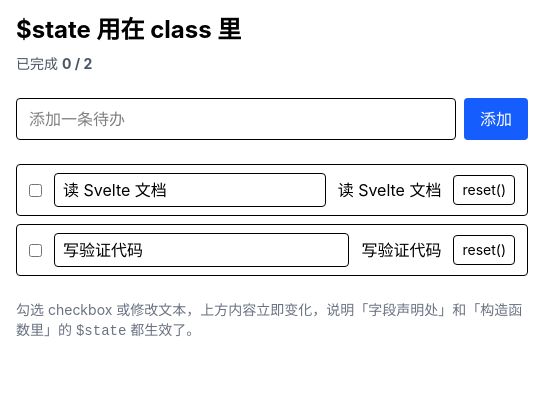
Test: /state-class 页面 › 新增待办后仍然具备响应式
Type "跑一遍测试" into the field with test id "draft-input". click: coordinates (236, 119)
box: [16, 98, 456, 140]
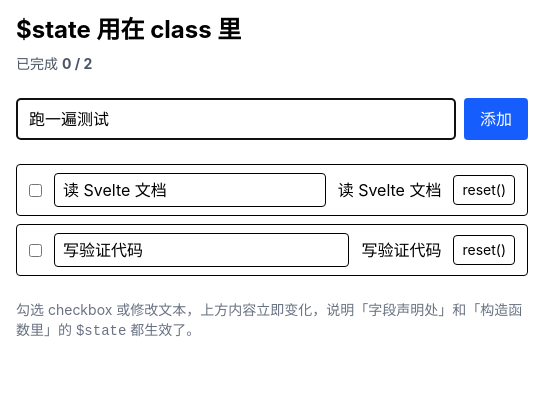
Click the button with test id "add". click: coordinates (496, 119)
box: [464, 98, 528, 140]
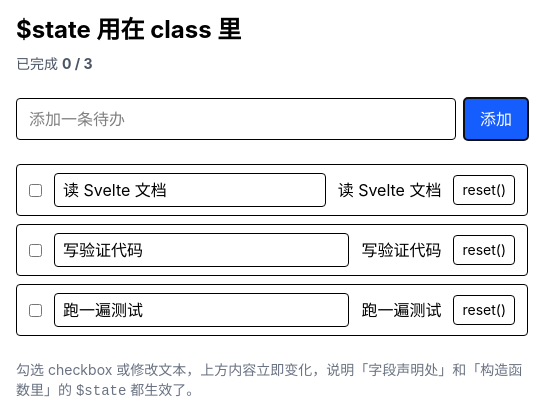
Expected: the text with test id "done-count" reads "0 / 3", [62, 55, 92, 72]
Expected: the text with test id "todo-text-2" reads "跑一遍测试", [361, 300, 441, 320]
Click the checkbox with test id "todo-done-2". click: coordinates (36, 310)
box: [29, 304, 42, 316]
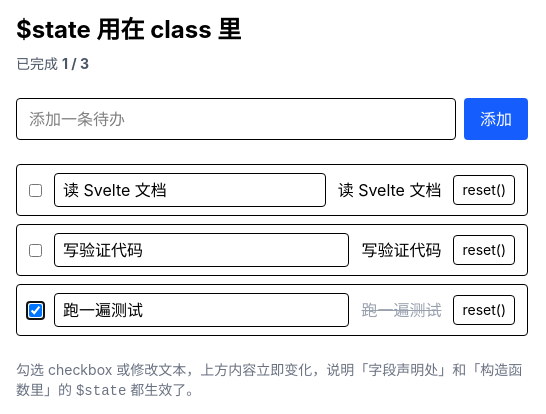
Expected: the text with test id "done-count" reads "1 / 3", [62, 55, 89, 72]
